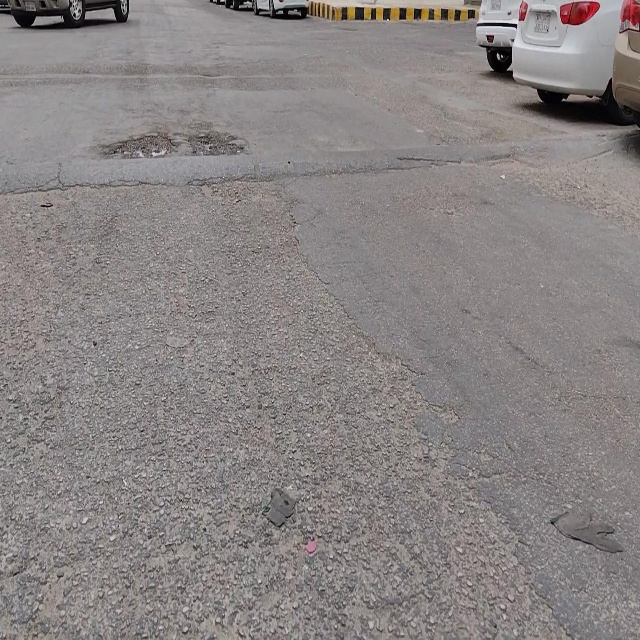pothole: (110, 133, 175, 160), (190, 131, 243, 159)
